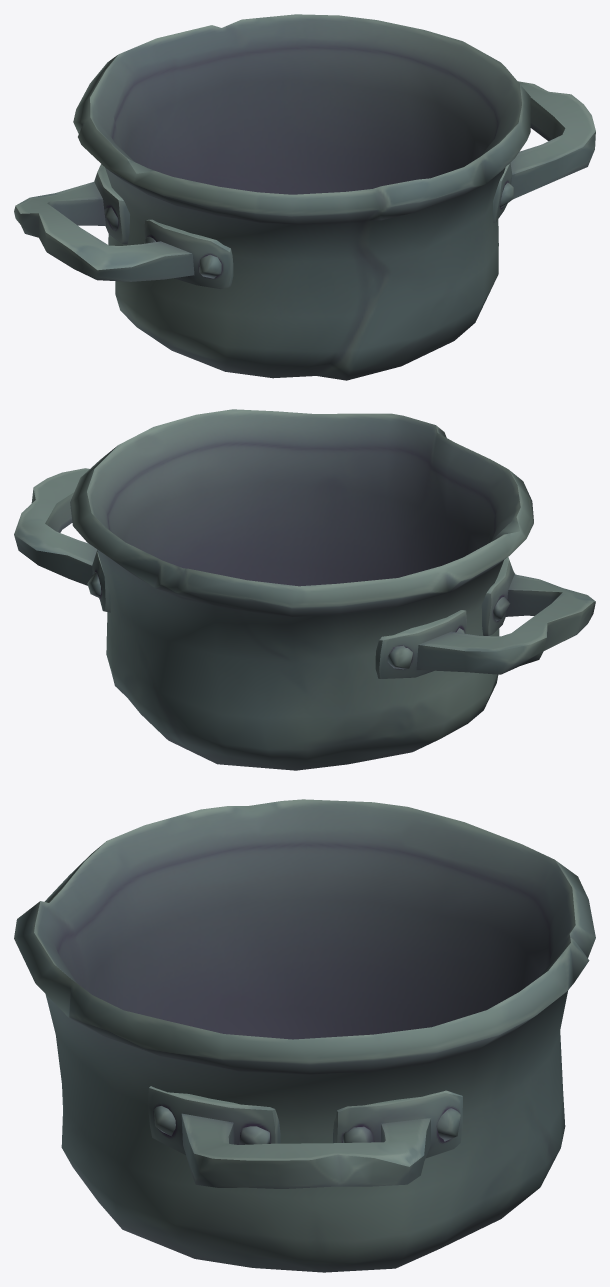
Rendered from SM_FW01_CampProp_Pot_A_01.fbx.
3 views of the same model, one above another, from view 1: azimuth 30°, elevation 25°; view 2: azimuth 150°, elevation 25°; view 3: azimuth 270°, elevation 25° (orthographic). The views are drawn at different scales.
Parts seen in each view (by area): view 1: SM_FW01_CampProp_Pot_A_01_LOD0; view 2: SM_FW01_CampProp_Pot_A_01_LOD0; view 3: SM_FW01_CampProp_Pot_A_01_LOD0.
Part boxes in pixels (box(x1,y1,x2,y2)): SM_FW01_CampProp_Pot_A_01_LOD0: box(14, 14, 595, 380); SM_FW01_CampProp_Pot_A_01_LOD0: box(14, 409, 595, 770); SM_FW01_CampProp_Pot_A_01_LOD0: box(14, 799, 595, 1272).
Size of what is drawn, in the model's own units: 1.01 by 0.3743 by 0.7337.
